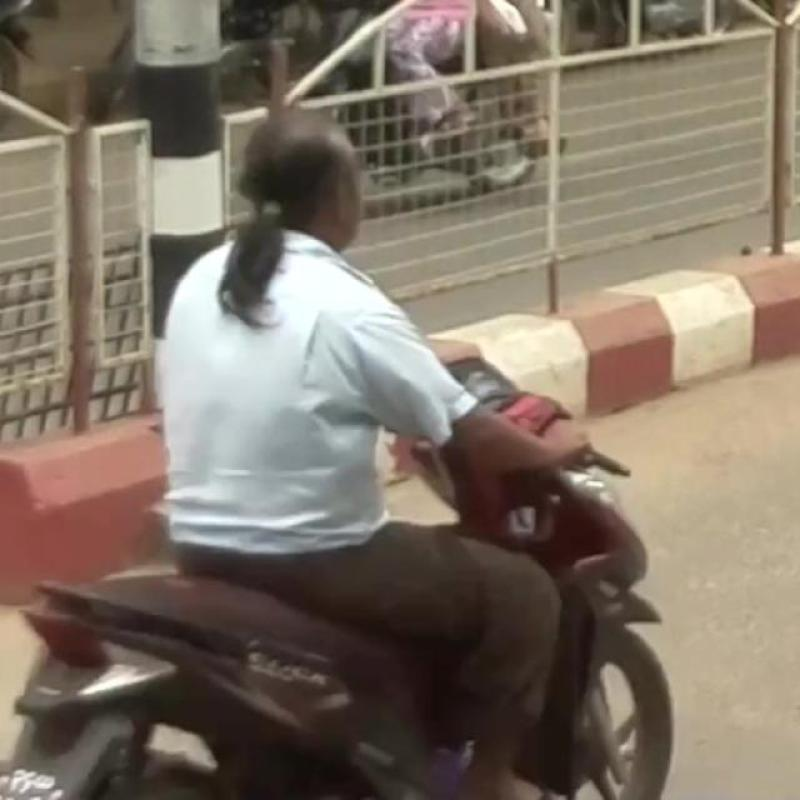nohelmet: (237, 94, 411, 292)
